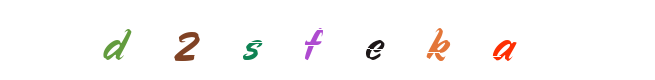2: (152, 0, 232, 80)
A: (429, 0, 509, 80)
D: (135, 0, 215, 80)
E: (288, 0, 368, 80)
F: (272, 0, 352, 80)
K: (334, 0, 414, 80)
S: (267, 0, 347, 80)
